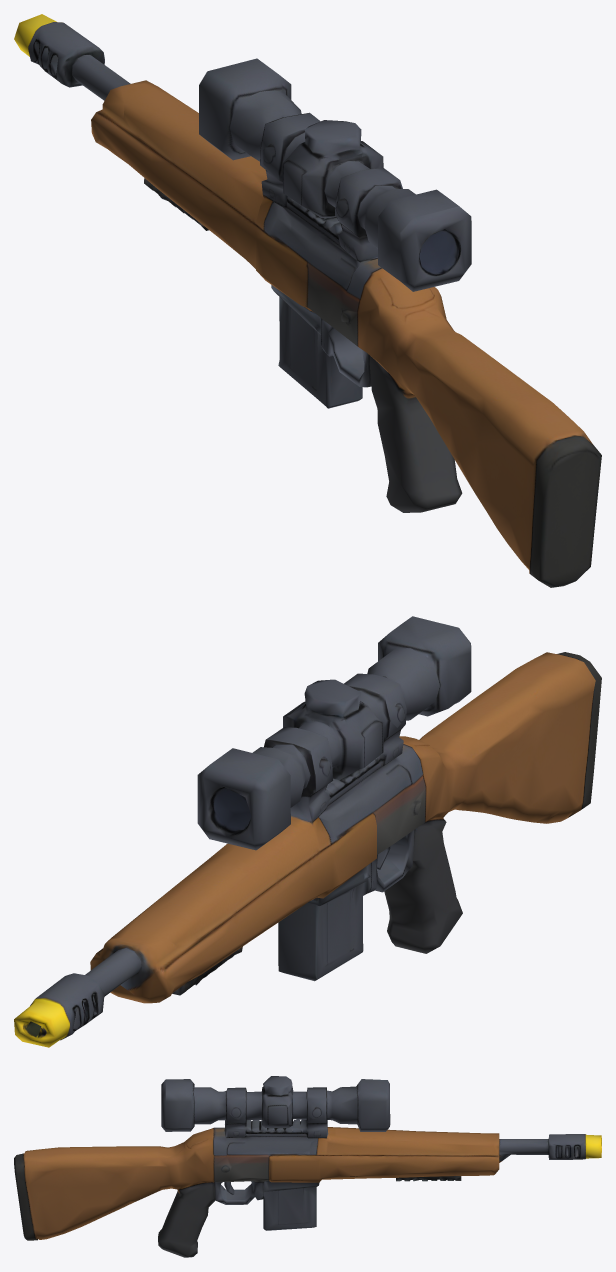
File: longbow_tripo_raw.glb
3 views of the same model, one above another, from view 1: azimuth 30°, elevation 25°; view 2: azimuth 150°, elevation 25°; view 3: azimuth 270°, elevation 25° (orthographic). The views are drawn at different scales.
Visible parts, largest first — view 1: tripo_node_8ccdffdb-74f8-441c-9bde-d8c1d01f9531; view 2: tripo_node_8ccdffdb-74f8-441c-9bde-d8c1d01f9531; view 3: tripo_node_8ccdffdb-74f8-441c-9bde-d8c1d01f9531.
Boxes of the visible parts, x1,y1,x2,y2 form: tripo_node_8ccdffdb-74f8-441c-9bde-d8c1d01f9531: (14, 14, 601, 587); tripo_node_8ccdffdb-74f8-441c-9bde-d8c1d01f9531: (14, 616, 601, 1047); tripo_node_8ccdffdb-74f8-441c-9bde-d8c1d01f9531: (14, 1076, 601, 1257).
Size of the model in its own units: 0.0873 by 0.3225 by 1.
Materials: 1 (1 with a texture image).
